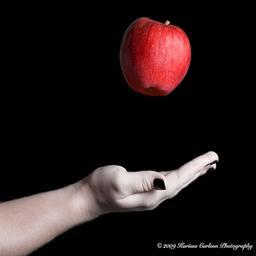apple: (119, 17, 190, 96)
